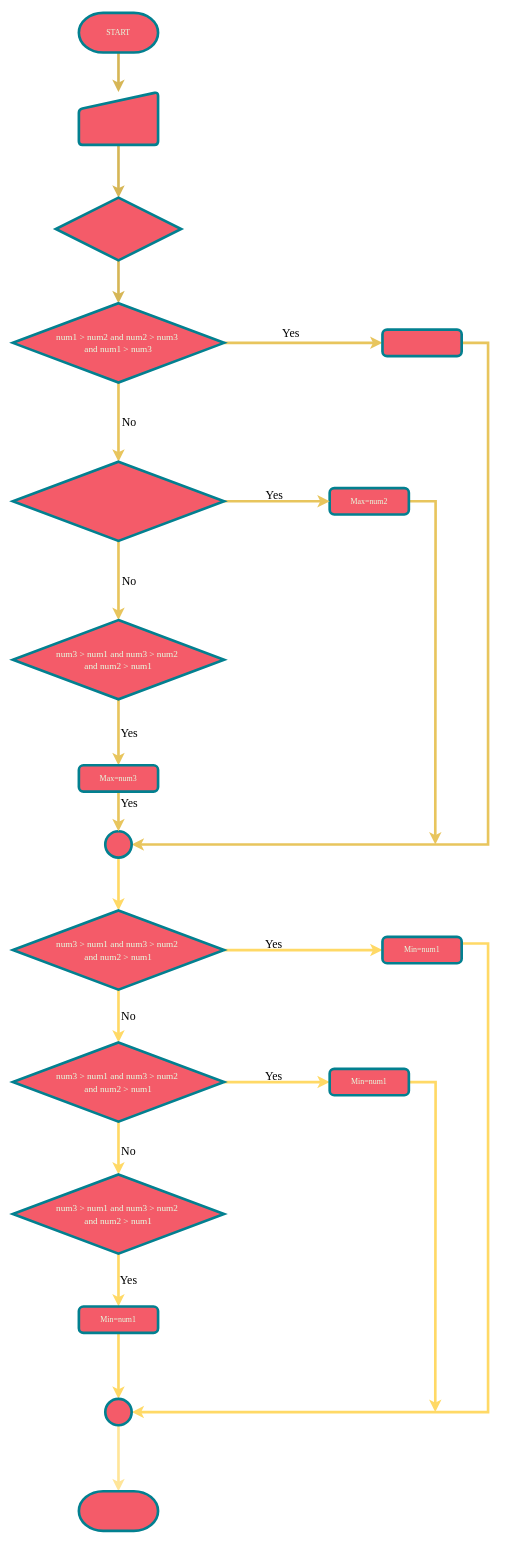
The diagram is 506 pixels wide and 1548 high, and some of its shapes have lost their labels. Each missing label, with the centre of its shape:
"END" goes at (x=118, y=1511).
"Input" goes at (x=118, y=118).
"Max=num1" goes at (x=422, y=342).
"num1,num2,num3" goes at (x=118, y=228).
"num2 > num1 and num2 > num3 and num1 > num3" goes at (x=118, y=501).
